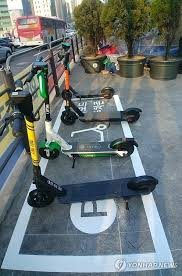kick_board: (12, 79, 157, 206), (29, 55, 140, 160), (63, 52, 141, 121)
kick_body: (62, 178, 132, 199), (74, 142, 112, 155), (85, 111, 122, 119), (75, 90, 103, 95)
kick_handler: (12, 78, 30, 132), (31, 57, 47, 74)
kick_wheel: (29, 190, 52, 209), (135, 175, 157, 194), (116, 138, 138, 157), (38, 141, 60, 159), (61, 111, 77, 126), (126, 108, 142, 123), (61, 90, 73, 100), (104, 87, 114, 98)
